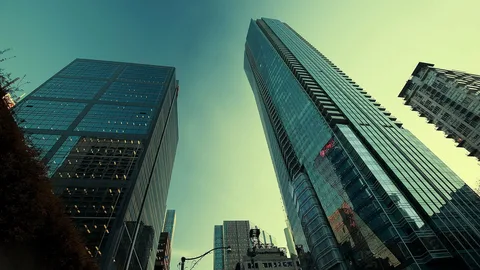high_rise_building: (234, 10, 385, 249), (58, 41, 194, 240)
